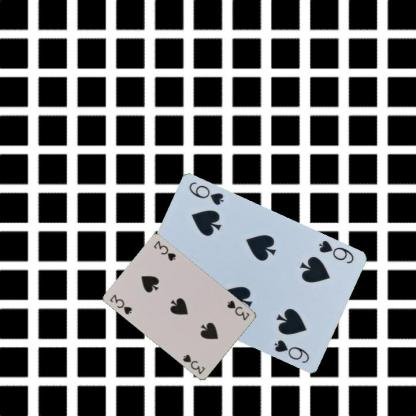3s: (225, 297, 251, 322), (108, 292, 134, 316)
6s: (315, 238, 355, 265)
